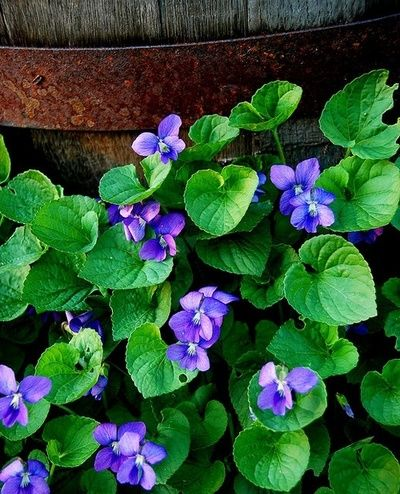violet: (86, 417, 182, 489), (167, 288, 237, 375), (268, 154, 343, 234), (109, 202, 182, 272), (1, 364, 54, 433), (249, 359, 317, 412), (128, 128, 197, 172), (1, 453, 49, 494)
